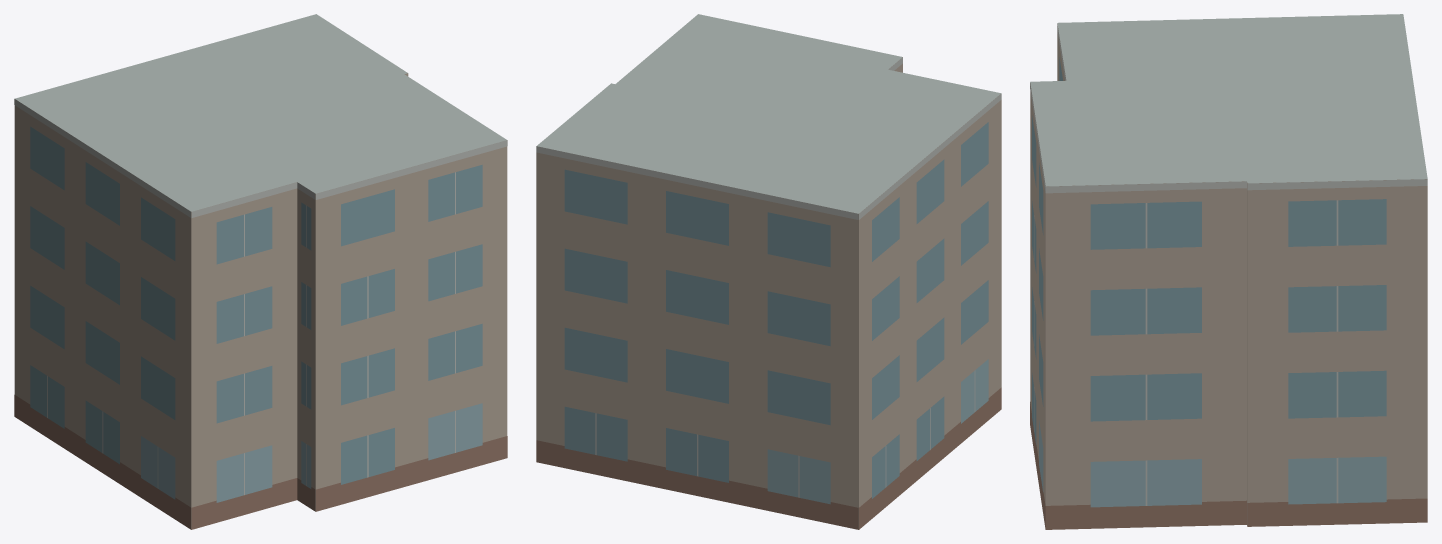
File: survey-upis-32596750.glb
3 renders of one model, left to right at view 1: azimuth 30°, elevation 25°; view 2: azimuth 150°, elevation 25°; view 3: azimuth 270°, elevation 25°, orthographic. The views are drawn at different scales.
Parts seen in each view (by area): view 1: survey-upis-32596750.tmp; view 2: survey-upis-32596750.tmp; view 3: survey-upis-32596750.tmp.
Part boxes in pixels (left/top/right/bottom): survey-upis-32596750.tmp: left=14, top=14, right=507, bottom=529; survey-upis-32596750.tmp: left=536, top=14, right=1001, bottom=529; survey-upis-32596750.tmp: left=1030, top=14, right=1427, bottom=529.
Size of the model in its own units: 13.15 by 12.2 by 12.81.
